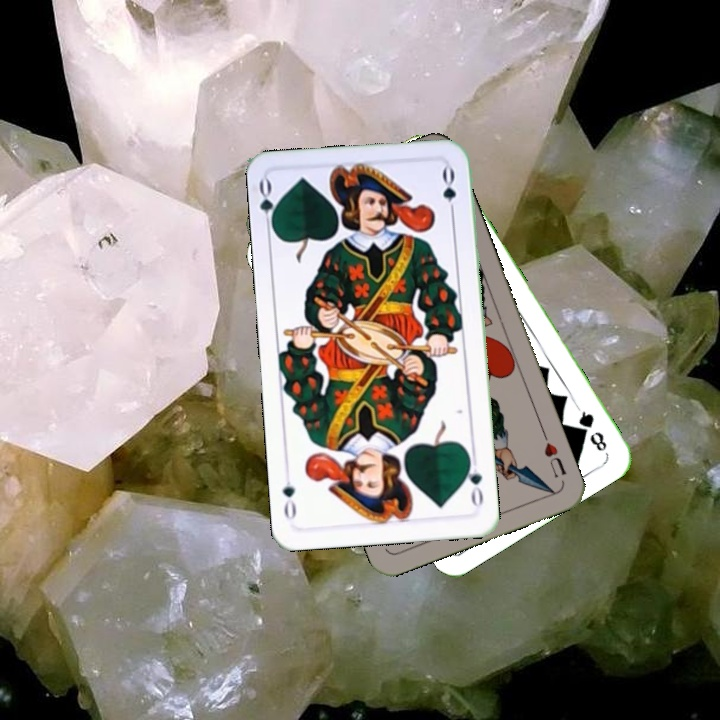G8: (573, 403, 610, 454)
GO: (255, 176, 282, 235), (461, 452, 486, 511)
HU: (538, 428, 569, 480)
